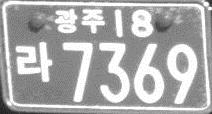1: (113, 8, 125, 38)
3: (95, 41, 131, 105)
6: (133, 42, 164, 105)
7: (60, 39, 94, 103)
8: (130, 9, 153, 37)
9: (165, 43, 199, 106)
광주_O: (54, 7, 105, 35)
라: (13, 40, 53, 81)
